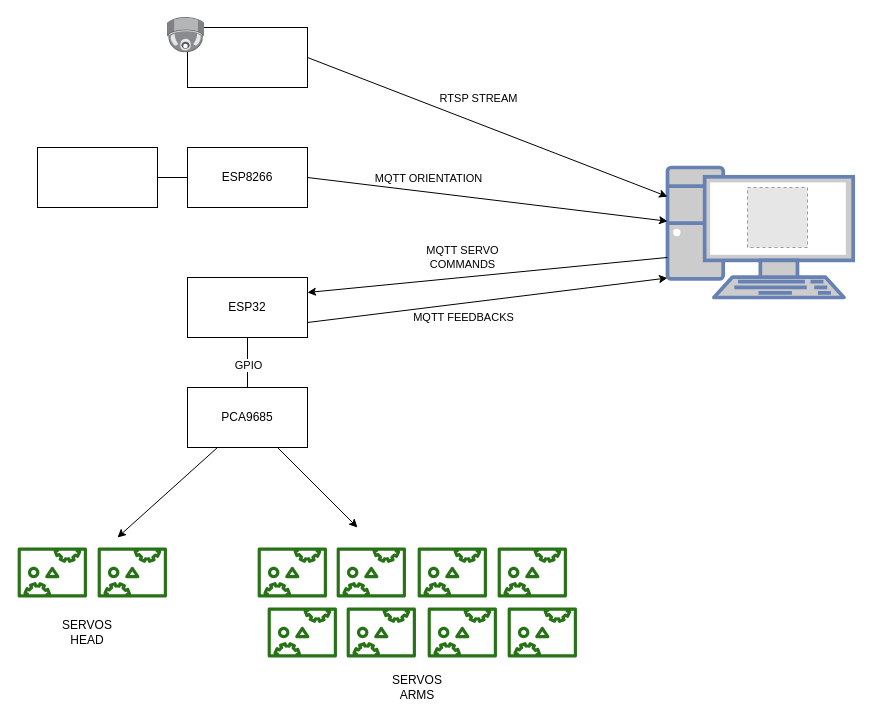
Some shapes in this 871 by 719 pixel diagram are drawn without their labels. Grey dashed boxes stand in for pictures. The shapes that lost their labels are listed below. From the top down, each one's centre as x and y in pixels, then its label:
the point at 247,57: ESP32-CAM
the point at 97,177: 3-Axis MAG3110
